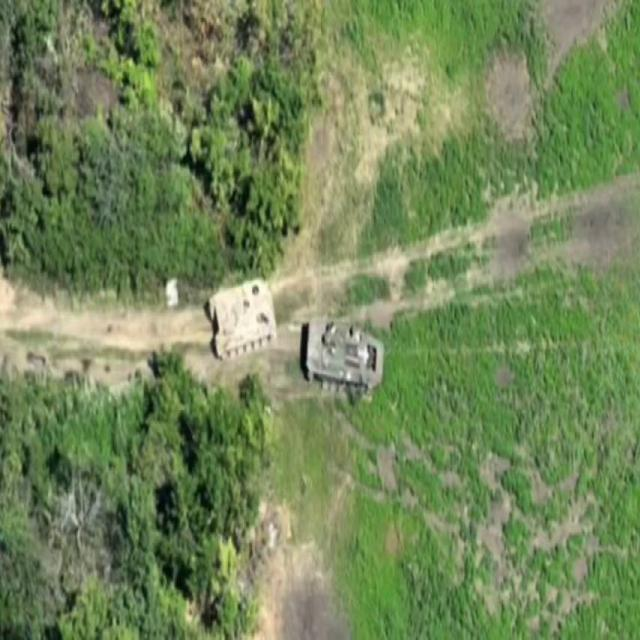AIFV: (305, 318, 385, 405)
APC: (209, 278, 280, 365)
